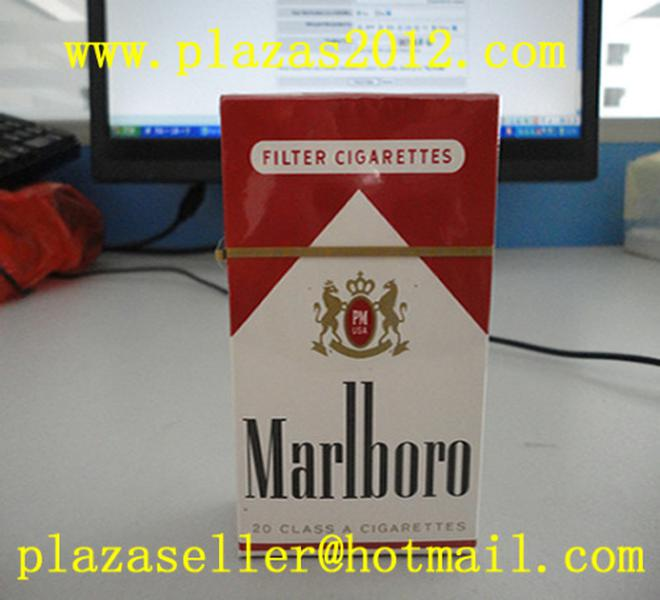marlboro_red: (225, 101, 497, 551)
